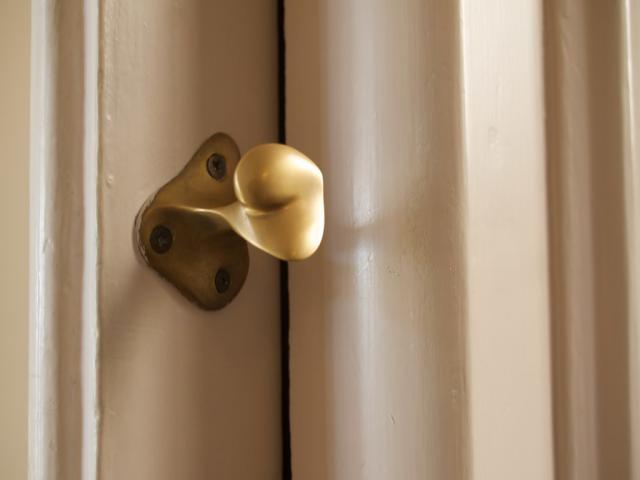Door-handle: (134, 131, 326, 312)
